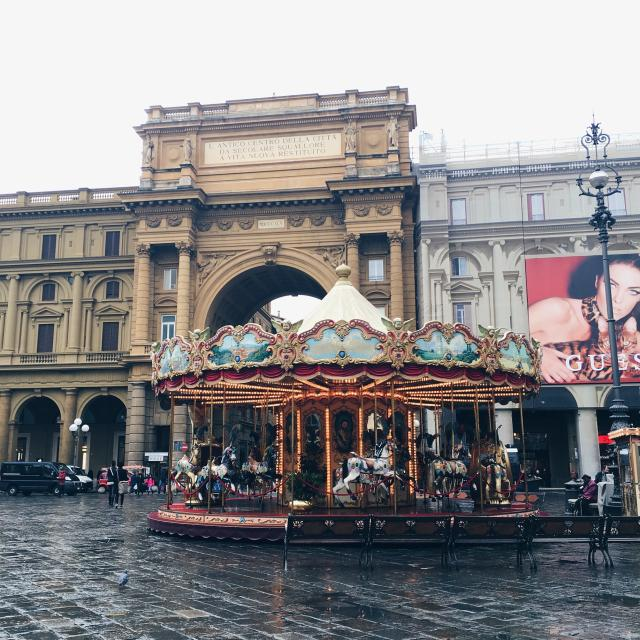body: (170, 407, 514, 482), (523, 252, 640, 383), (14, 466, 101, 490), (574, 474, 598, 516), (112, 461, 130, 509), (106, 459, 120, 507), (530, 464, 554, 489), (154, 463, 169, 496), (165, 464, 178, 497), (126, 469, 138, 496), (56, 468, 67, 497), (594, 465, 610, 484), (142, 472, 155, 495), (135, 469, 145, 496)
